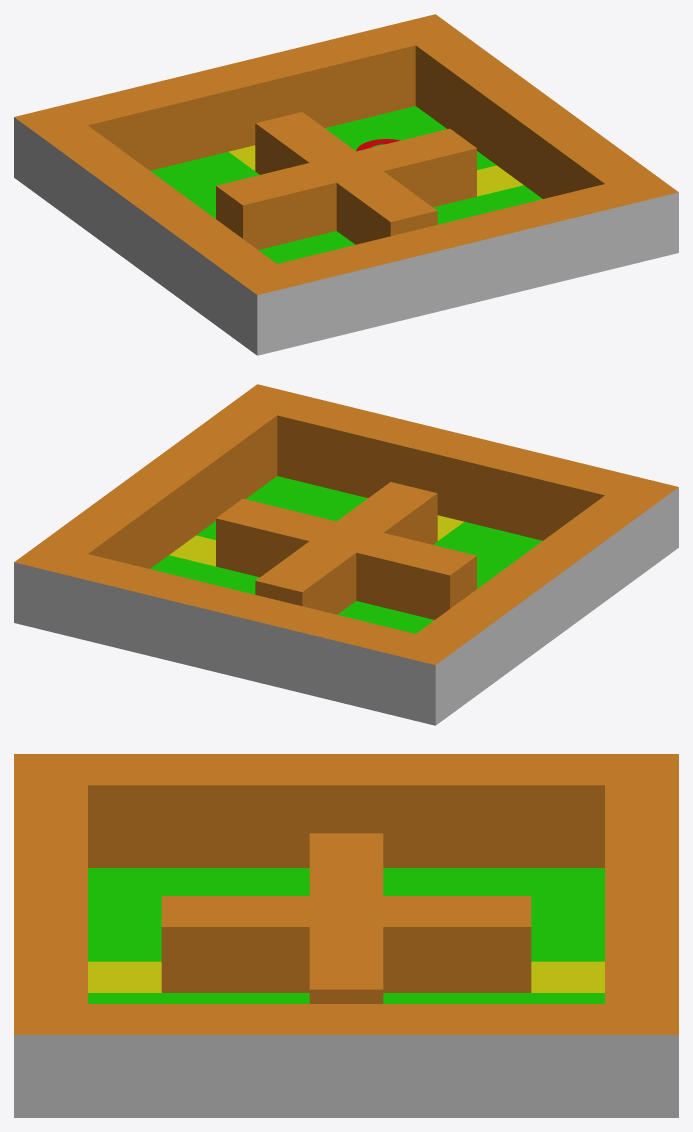
The model's file is Level#9.fbx.
3 views of the same model, one above another, from view 1: azimuth 30°, elevation 25°; view 2: azimuth 150°, elevation 25°; view 3: azimuth 270°, elevation 25° (orthographic). The views are drawn at different scales.
Parts seen in each view (by area): view 1: Grid; view 2: Grid; view 3: Grid.
Part boxes in pixels (box(x1,y1,x2,y2)): Grid: box(14, 14, 678, 355); Grid: box(14, 384, 678, 725); Grid: box(14, 754, 678, 1117).
Bounding box in the file's own units: 200 × 27.48 × 200.
